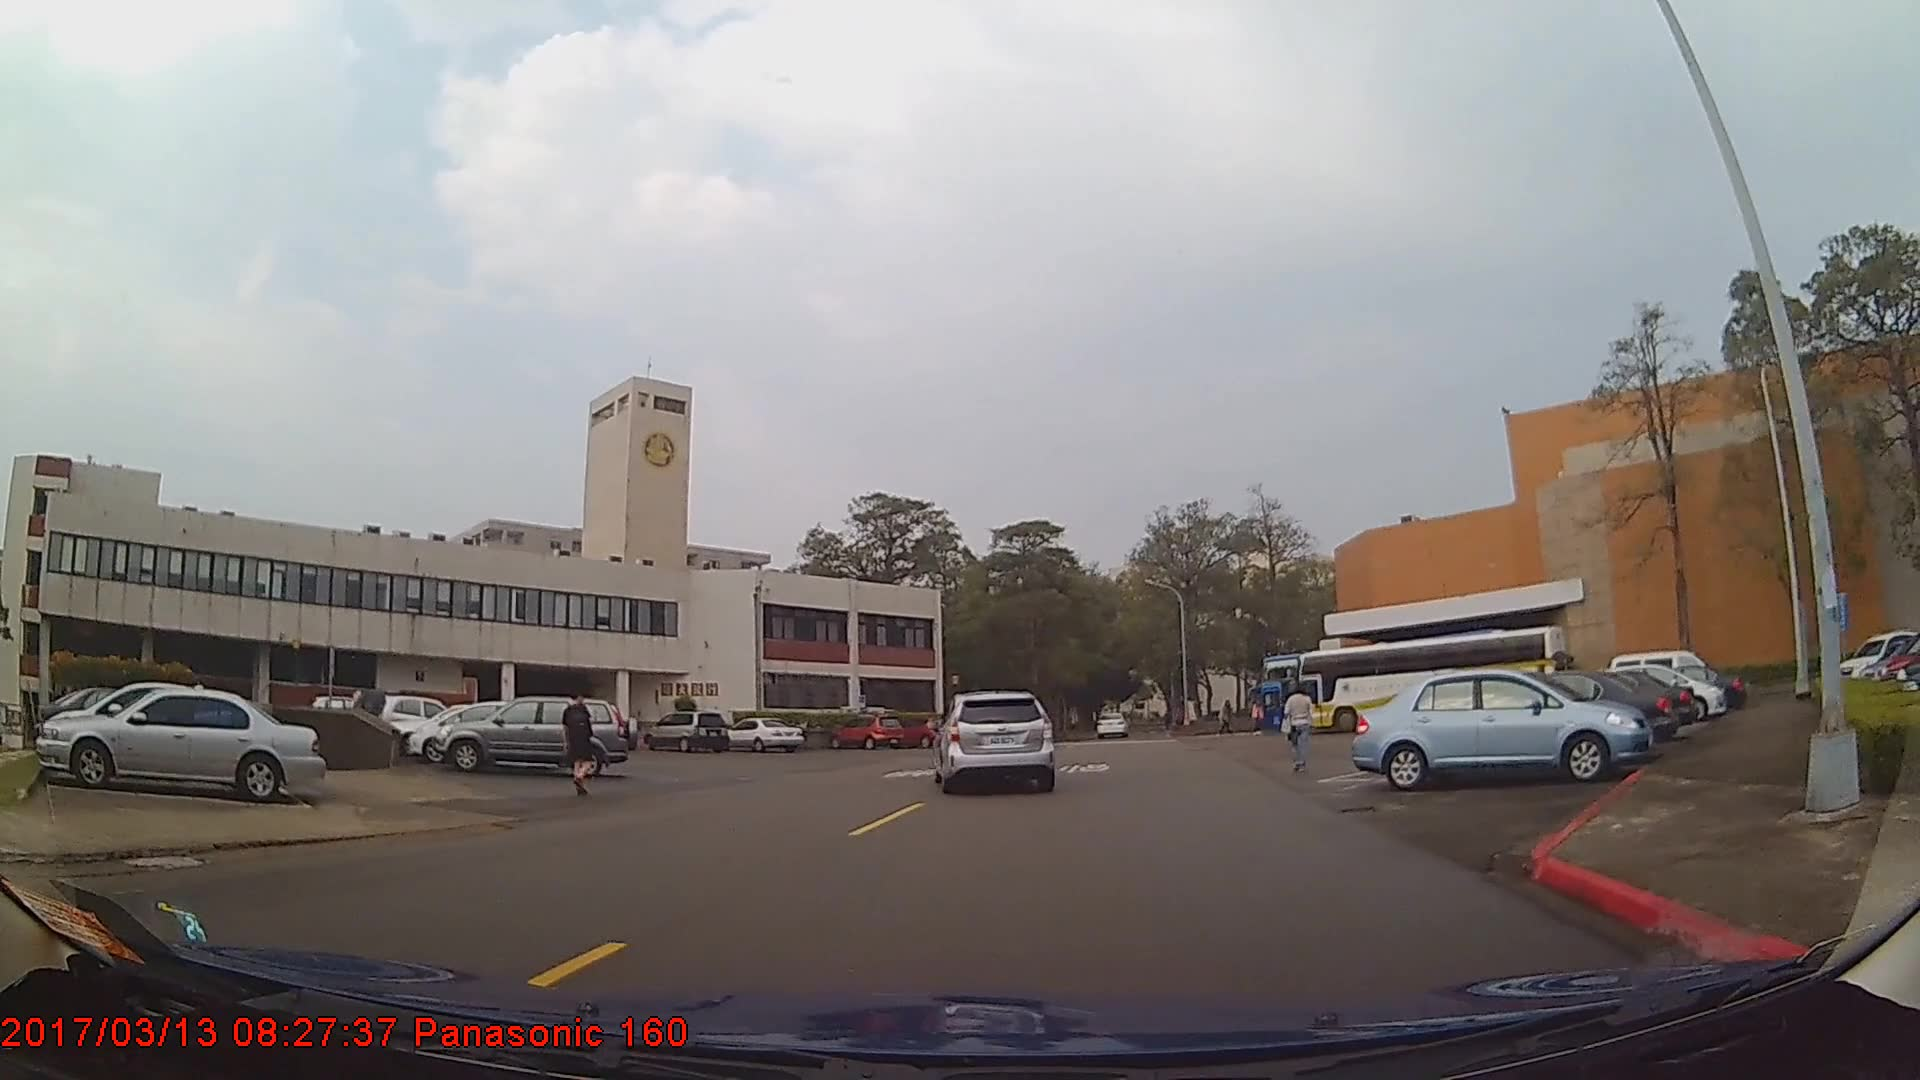pedestrian: (561, 686, 599, 794), (1282, 681, 1314, 771)
vehicle: (1351, 667, 1654, 789), (33, 686, 326, 803), (1296, 622, 1569, 736), (1436, 671, 1677, 749), (431, 695, 630, 778), (1501, 669, 1695, 739), (936, 689, 1052, 795), (405, 699, 563, 764), (380, 691, 470, 744), (641, 709, 732, 752), (721, 714, 804, 750), (826, 713, 905, 752), (1095, 710, 1127, 739)
